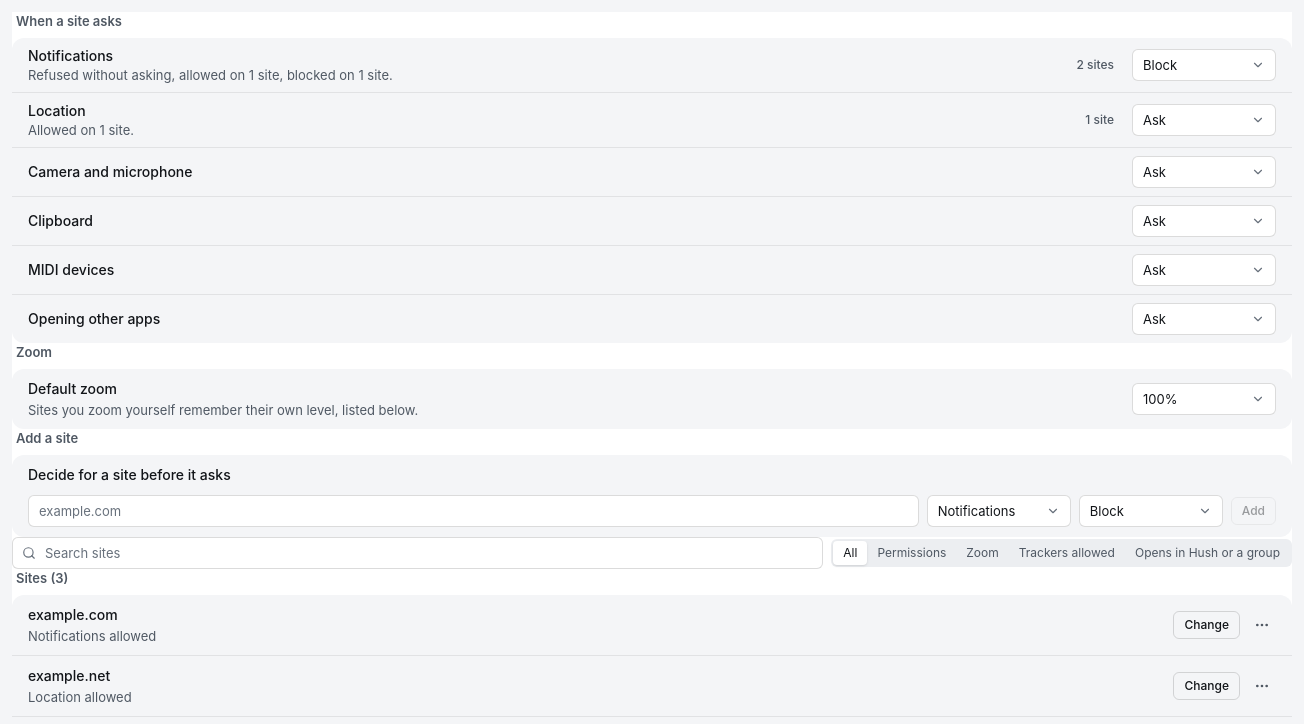
Scenario: the site settings pane › counts the sites that answered for themselves, and lists only them on request
Expected: the text "Refused without asking, allowed on 1 site, blocked on 1 site." is shown, x1=28 y1=67 x2=393 y2=83
Click the button "2 sites": (1095, 65) x1=1066 y1=51 x2=1124 y2=79
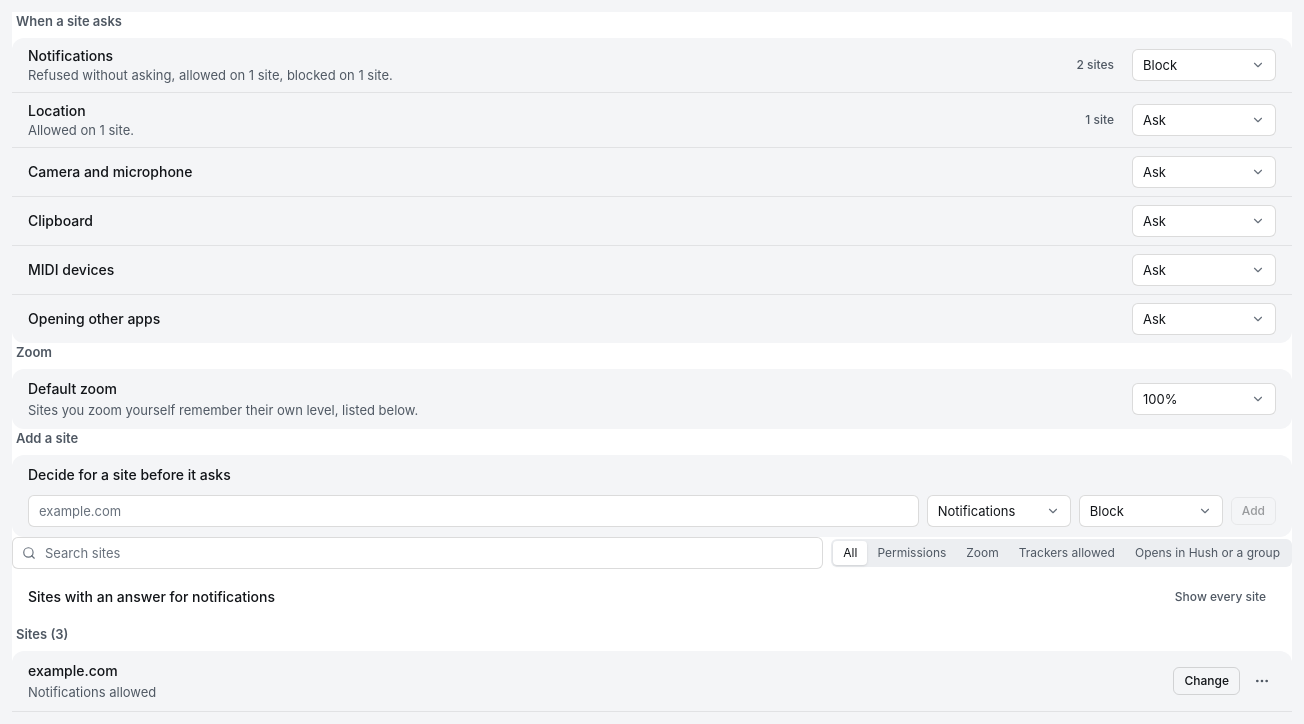
Expected: the text "example.com" is shown, x1=28 y1=662 x2=118 y2=679
Result: the text "example.net" is gone
Click the button "Show every site": (1220, 597) x1=1165 y1=583 x2=1276 y2=611
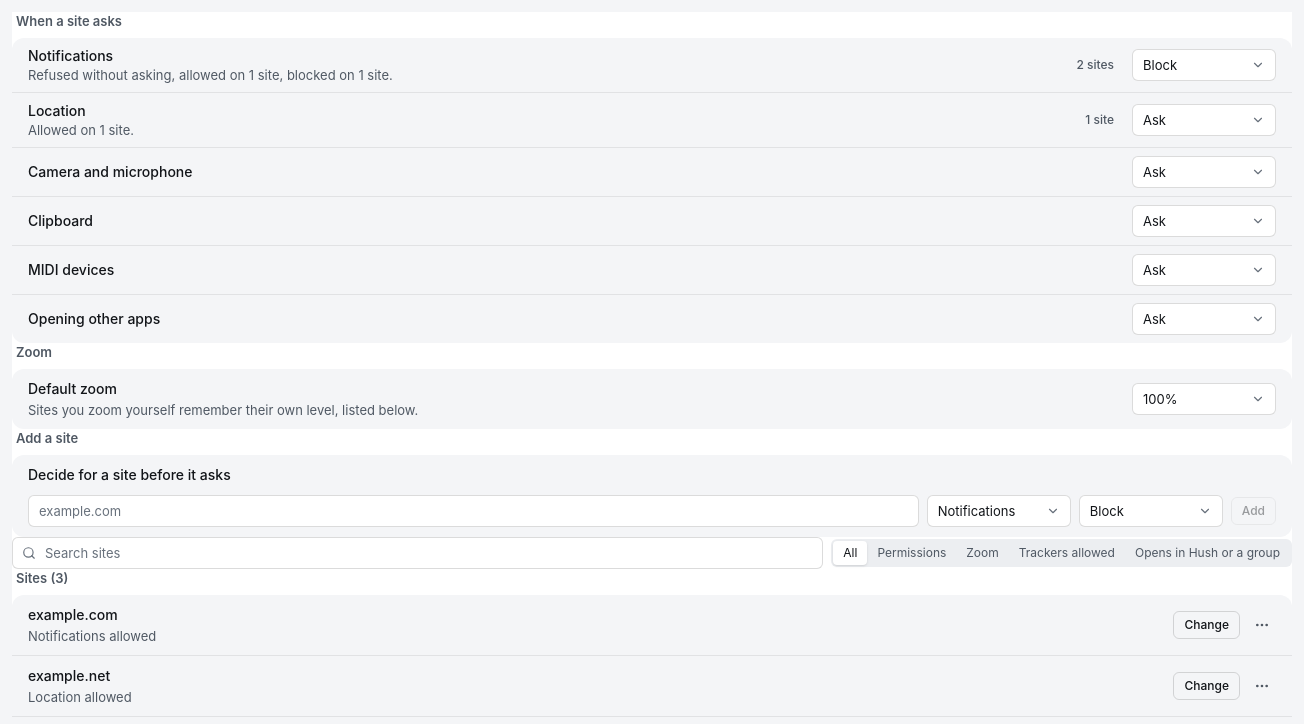
Result: the text "example.net" is shown at x1=28 y1=667 x2=110 y2=684
